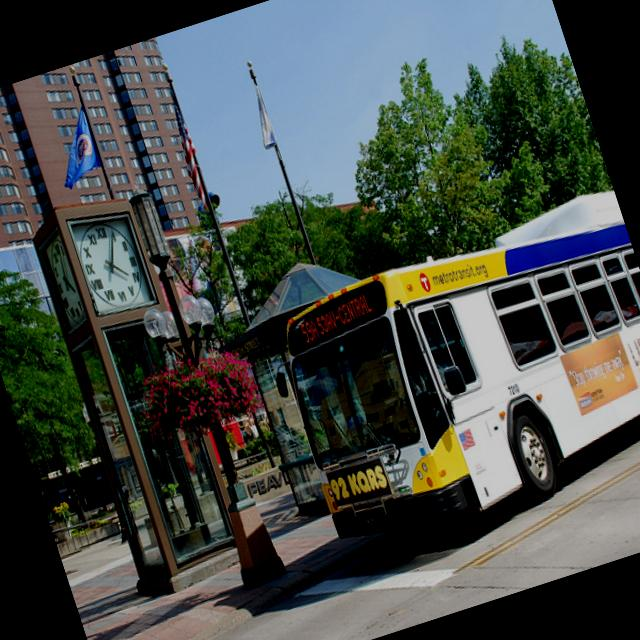Vehicle: (252, 185, 640, 568)
